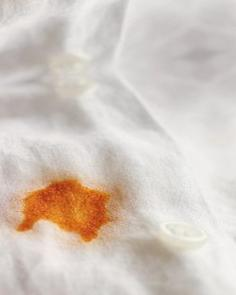stain: (4, 172, 131, 249)
